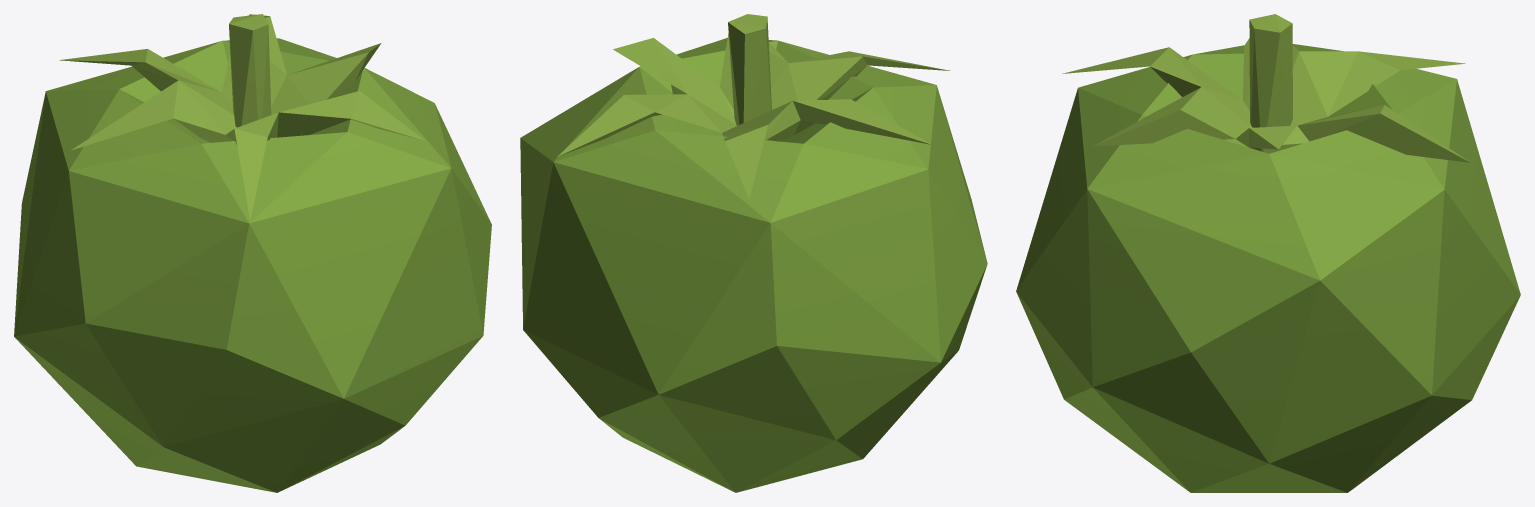
The model's file is Tomato_02.fbx.
The picture shows the model from 3 angles, left to right: view 1: azimuth 30°, elevation 25°; view 2: azimuth 150°, elevation 25°; view 3: azimuth 270°, elevation 25°; orthographic projection. The views are drawn at different scales.
Visible parts, largest first — view 1: Tomato_02; view 2: Tomato_02; view 3: Tomato_02.
Part boxes in pixels (x1=…): Tomato_02: x1=14, y1=14, x2=491, y2=492; Tomato_02: x1=520, y1=14, x2=987, y2=492; Tomato_02: x1=1016, y1=14, x2=1520, y2=492.
Bounding box in the file's own units: 0.1707 × 0.1729 × 0.1729.
